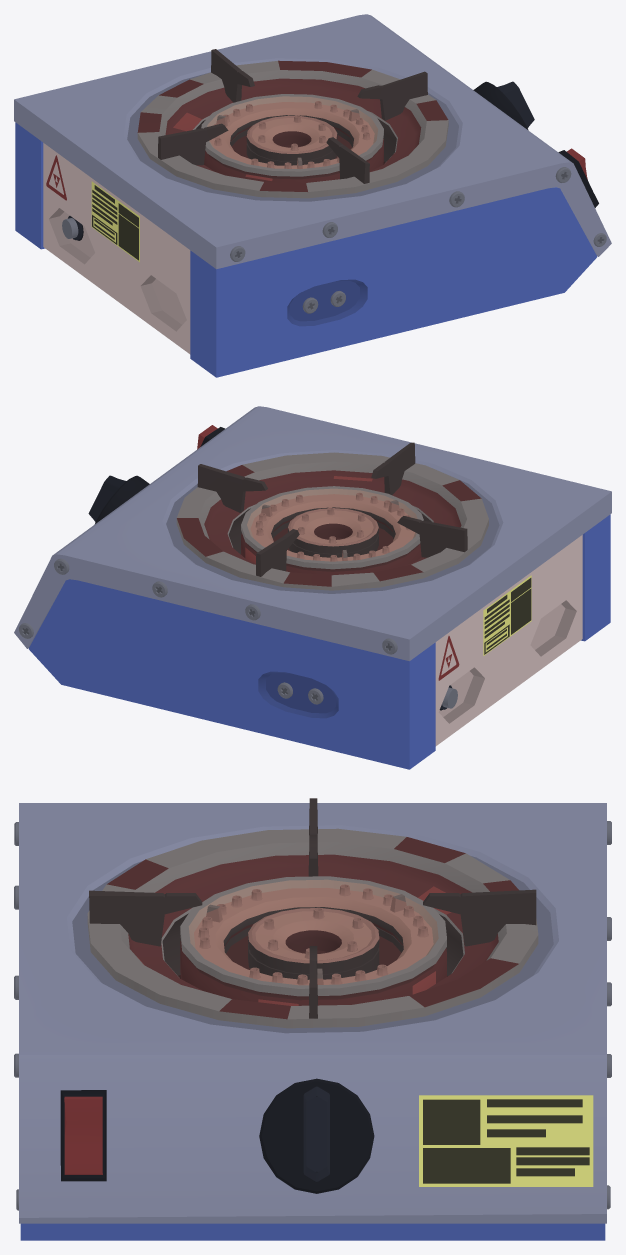
The picture shows the model from 3 angles, top to bottom: view 1: azimuth 30°, elevation 25°; view 2: azimuth 150°, elevation 25°; view 3: azimuth 270°, elevation 25°; orthographic projection. The views are drawn at different scales.
Visible parts, largest first — view 1: Cube_0, Cube.004_1, paper_10, krutilka_6, Circle.009_8, bolts_4, switch_5; view 2: Cube_0, Cube.004_1, paper_10, krutilka_6, Circle.009_8, bolts_4; view 3: Cube_0, paper_10, krutilka_6, Cube.004_1, switch_5, bolts_4, Circle.009_8.
Part boxes in pixels (x1,y1,x2,y2): Cube_0: (14, 14, 611, 377); Cube.004_1: (158, 49, 427, 183); paper_10: (91, 181, 139, 262); krutilka_6: (473, 81, 534, 130); Circle.009_8: (230, 167, 606, 313); bolts_4: (213, 101, 370, 168); switch_5: (558, 148, 598, 207); Cube_0: (14, 406, 611, 769); Cube.004_1: (197, 442, 467, 576); paper_10: (483, 575, 531, 655); krutilka_6: (88, 475, 149, 524); Circle.009_8: (19, 558, 323, 704); bolts_4: (255, 492, 410, 561); Cube_0: (19, 803, 606, 1240); paper_10: (419, 1095, 593, 1186); krutilka_6: (259, 1078, 374, 1193); Cube.004_1: (89, 798, 536, 1018); switch_5: (60, 1090, 106, 1181); bolts_4: (198, 884, 428, 984); Circle.009_8: (14, 822, 611, 1210).
Bounding box in the file's own units: 8.06 × 2.86 × 6.86.
